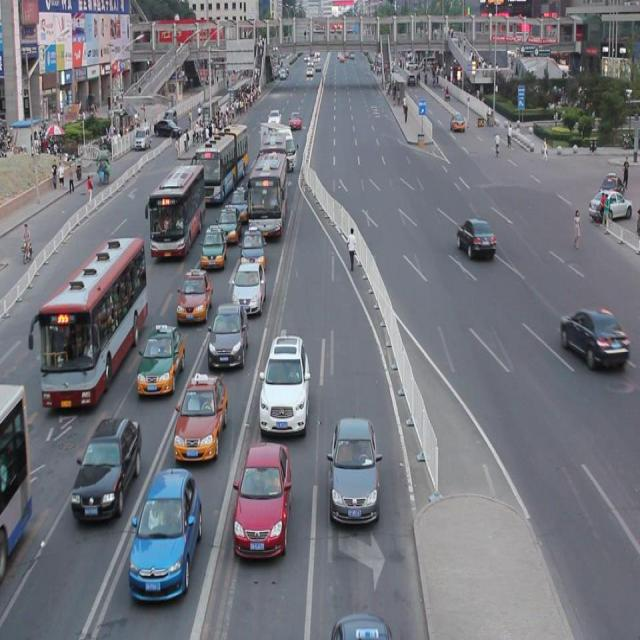bus: (260, 123, 297, 169)
car: (128, 468, 202, 600), (72, 416, 142, 519), (233, 440, 291, 556), (328, 417, 381, 522), (258, 333, 310, 434), (173, 372, 227, 462), (559, 306, 626, 366), (138, 324, 183, 394), (208, 303, 248, 368), (177, 267, 212, 322), (454, 216, 495, 258), (232, 262, 265, 312), (332, 612, 390, 640), (587, 189, 630, 220), (239, 227, 267, 267), (200, 224, 227, 265), (215, 205, 240, 242), (229, 187, 249, 222)
van: (28, 237, 147, 405), (1, 382, 33, 559), (145, 165, 203, 257), (195, 125, 248, 201), (247, 149, 286, 235), (260, 133, 286, 180)
